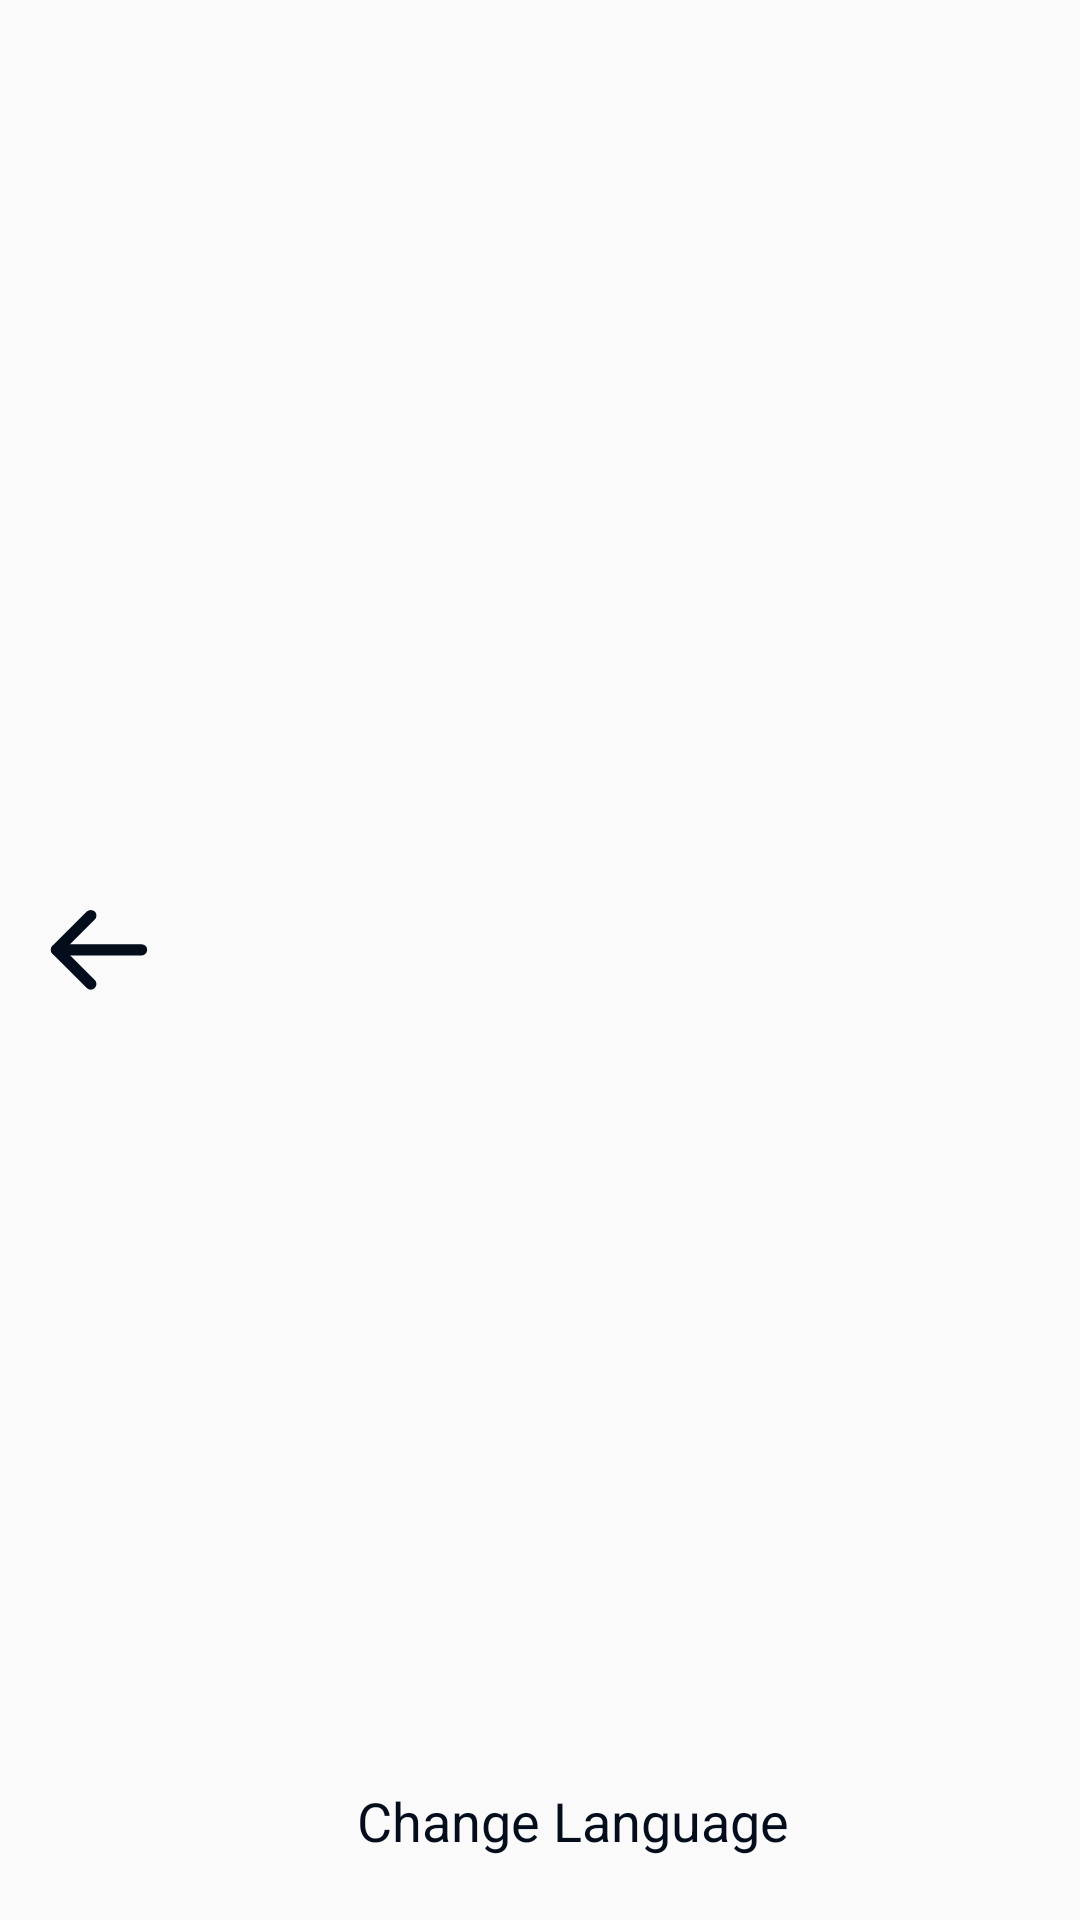

Where to tap for icons on this 1080*1920 app screen, as point (x, y):
arrow left: point (98, 950)
